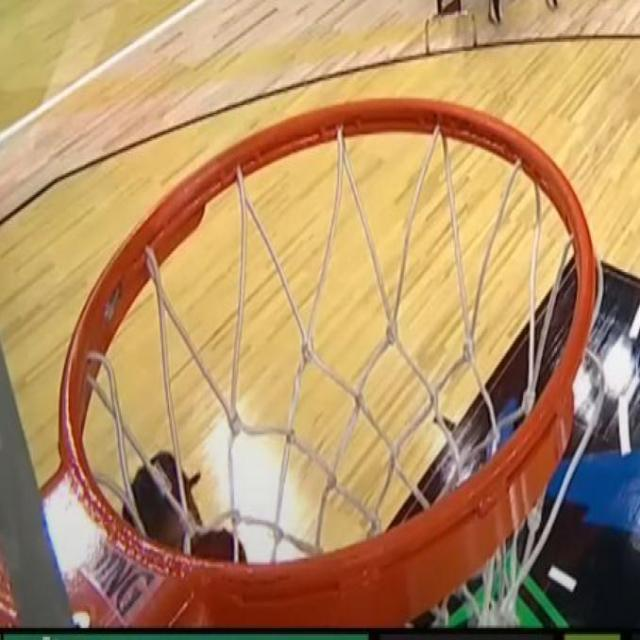hoop: (49, 204, 610, 627)
